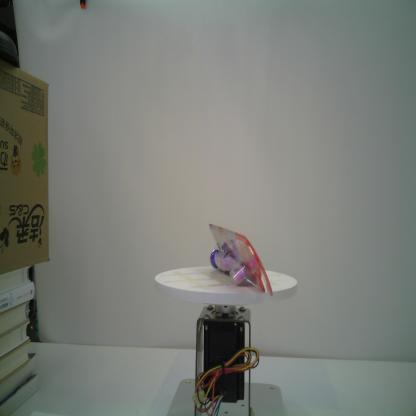Personal Hygiene: (207, 223, 274, 298)
